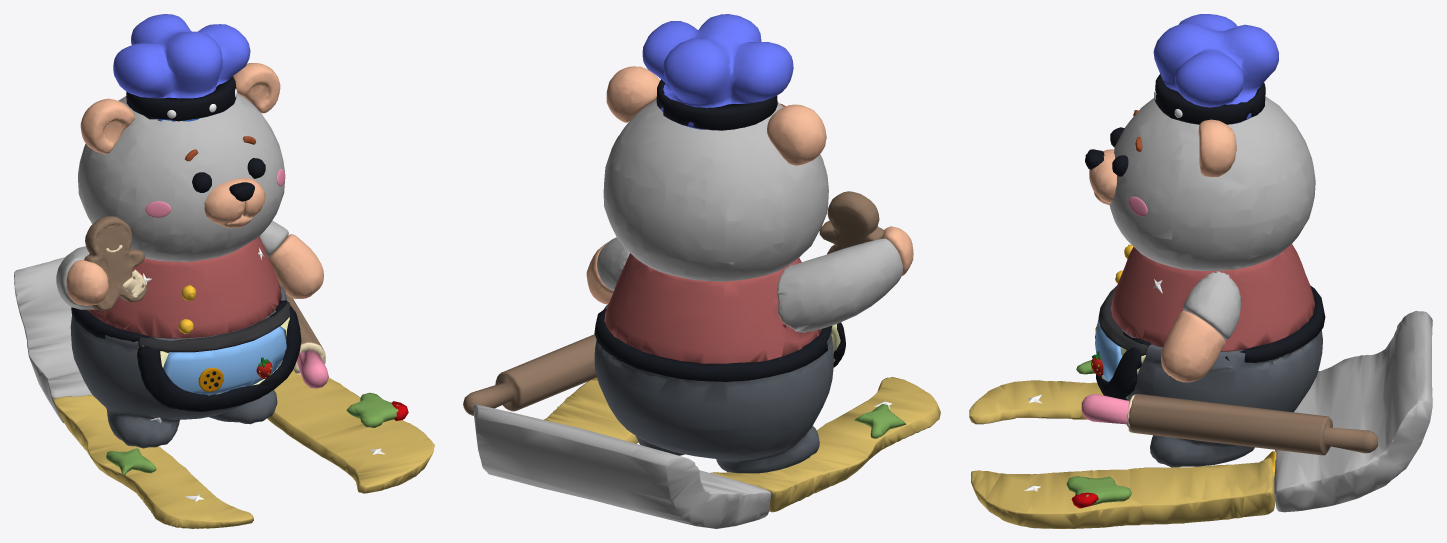
File: SnowBearChef3dModel2.fbx
3 views of the same model, side by side, from view 1: azimuth 30°, elevation 25°; view 2: azimuth 150°, elevation 25°; view 3: azimuth 270°, elevation 25° (orthographic). The views are drawn at different scales.
Parts seen in each view (by area): view 1: M_SnowBearChef3dModel2, S_SnowBearChef3dModel2, D_SnowBearChef3dModel2_2, D_SnowBearChef3dModel2_3, D_SnowBearChef3dModel2_1, D_SnowBearChef3dModel2_7, D_SnowBearChef3dModel2_13; view 2: M_SnowBearChef3dModel2, S_SnowBearChef3dModel2, D_SnowBearChef3dModel2_1, D_SnowBearChef3dModel2_3; view 3: M_SnowBearChef3dModel2, S_SnowBearChef3dModel2, D_SnowBearChef3dModel2_3, D_SnowBearChef3dModel2_1, D_SnowBearChef3dModel2_2, D_SnowBearChef3dModel2_7.
Part boxes in pixels (bbox=[...]): M_SnowBearChef3dModel2: bbox=[14, 14, 325, 448]; S_SnowBearChef3dModel2: bbox=[53, 302, 434, 528]; D_SnowBearChef3dModel2_2: bbox=[137, 306, 301, 411]; D_SnowBearChef3dModel2_3: bbox=[126, 76, 236, 121]; D_SnowBearChef3dModel2_1: bbox=[71, 307, 149, 341]; D_SnowBearChef3dModel2_7: bbox=[296, 350, 328, 388]; D_SnowBearChef3dModel2_13: bbox=[198, 367, 223, 392]; M_SnowBearChef3dModel2: bbox=[463, 14, 913, 528]; S_SnowBearChef3dModel2: bbox=[543, 377, 940, 512]; D_SnowBearChef3dModel2_1: bbox=[594, 308, 832, 381]; D_SnowBearChef3dModel2_3: bbox=[656, 79, 777, 130]; M_SnowBearChef3dModel2: bbox=[1089, 14, 1432, 512]; S_SnowBearChef3dModel2: bbox=[969, 286, 1274, 528]; D_SnowBearChef3dModel2_3: bbox=[1154, 74, 1265, 124]; D_SnowBearChef3dModel2_1: bbox=[1225, 285, 1325, 362]; D_SnowBearChef3dModel2_2: bbox=[1096, 347, 1141, 400]; D_SnowBearChef3dModel2_7: bbox=[1081, 394, 1129, 424].
Bounding box in the file's own units: 653 × 820 × 812.
